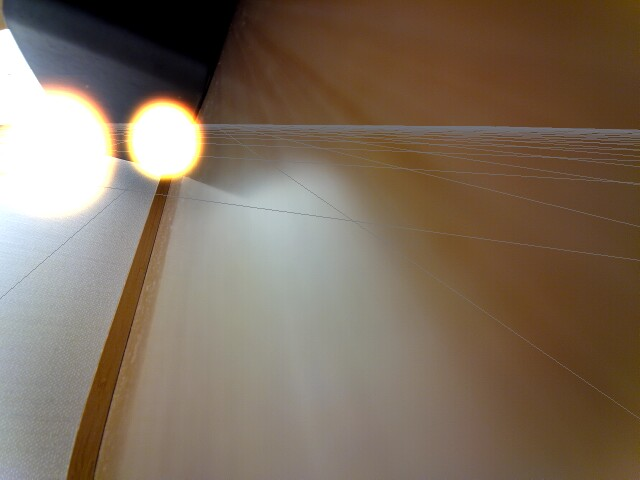firebig: (0, 61, 117, 232)
